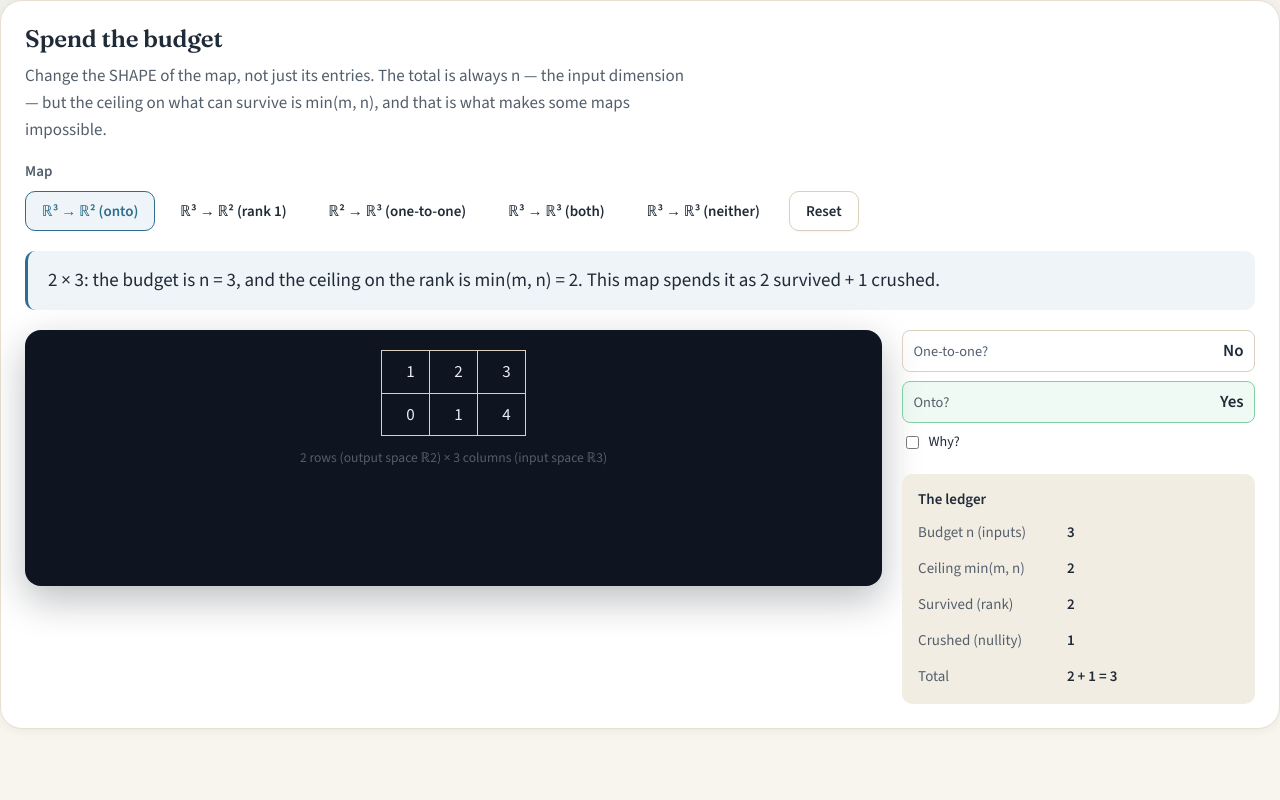
Test case: RankNullityExplorer › justifies a verdict with the inequality that forced it, not a bare label
What coordinates should you click on to do the following:
click the checkbox labelled "Why?"
I would click on:
 (913, 443)
Its box is [906, 436, 919, 449].
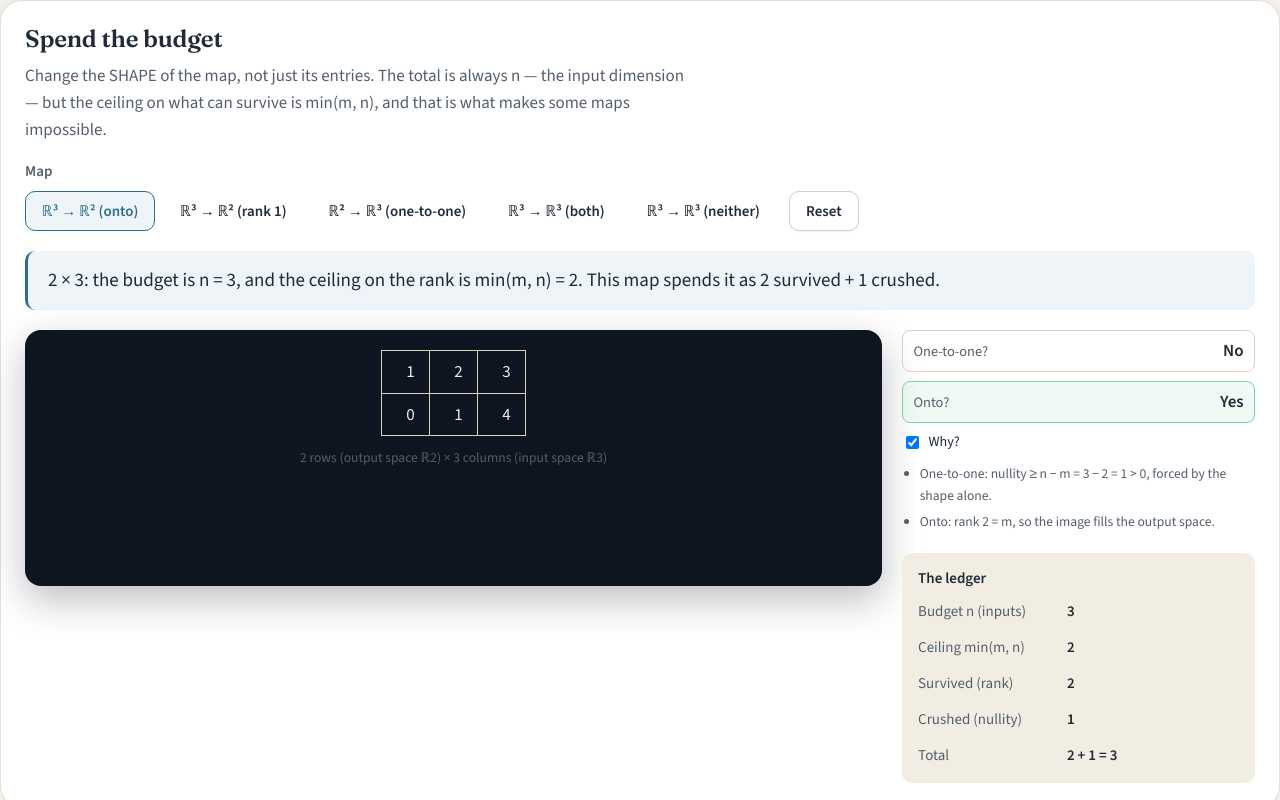
expect the list with test id "rn-reasons" shows "n − m = 3 − 2 = 1 > 0": met, box [920, 464, 1226, 504]
expect the list with test id "rn-reasons" shows "forced by the shape alone": met, box [920, 464, 1226, 504]
